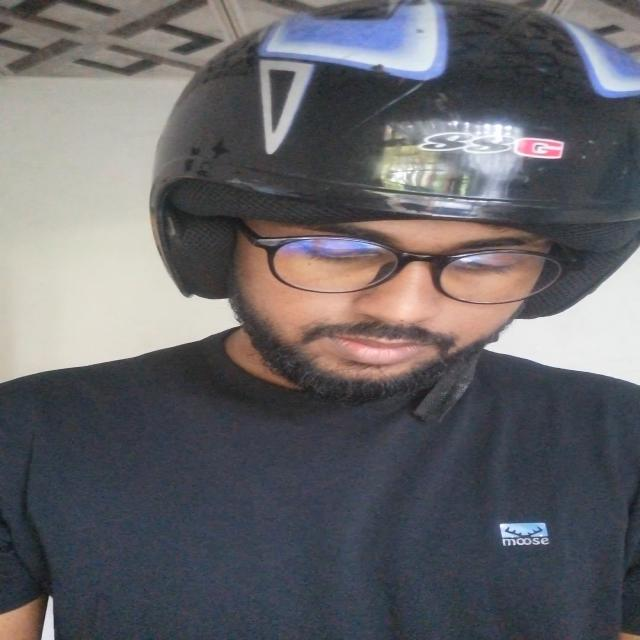Helmet_Wearer: (146, 0, 640, 426)
Person: (25, 0, 640, 640)
